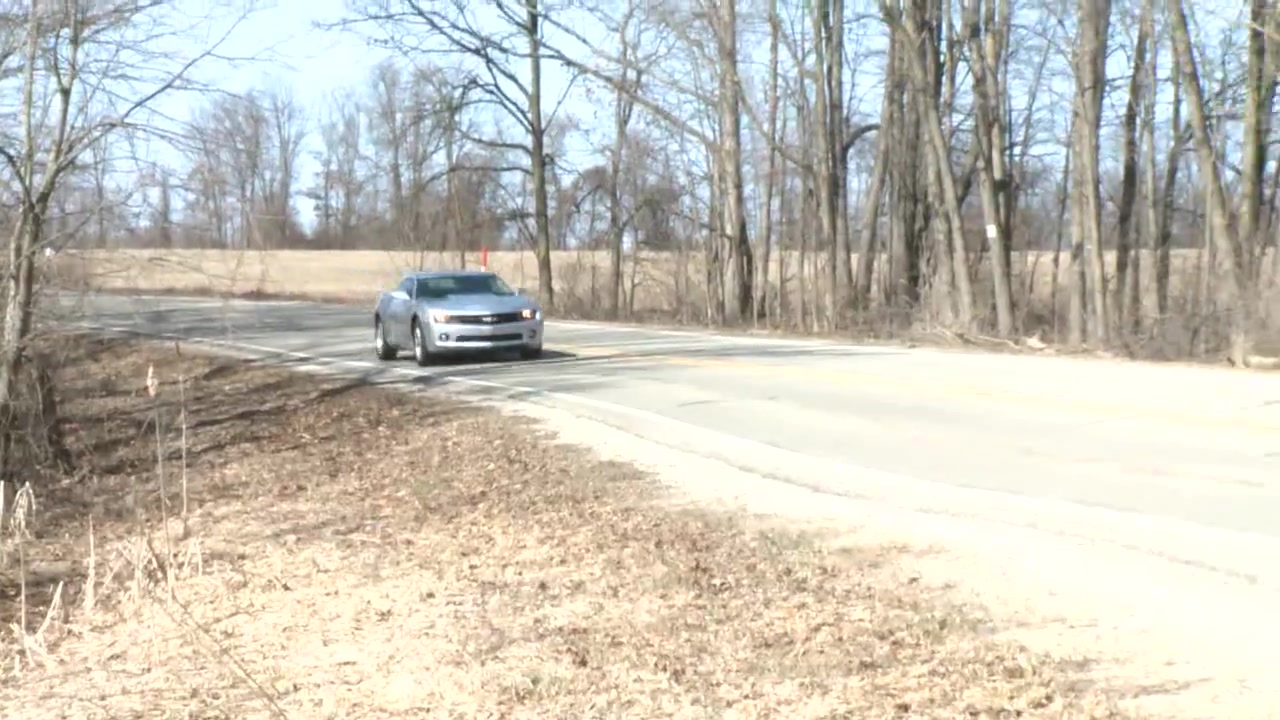car: (369, 273, 548, 363)
